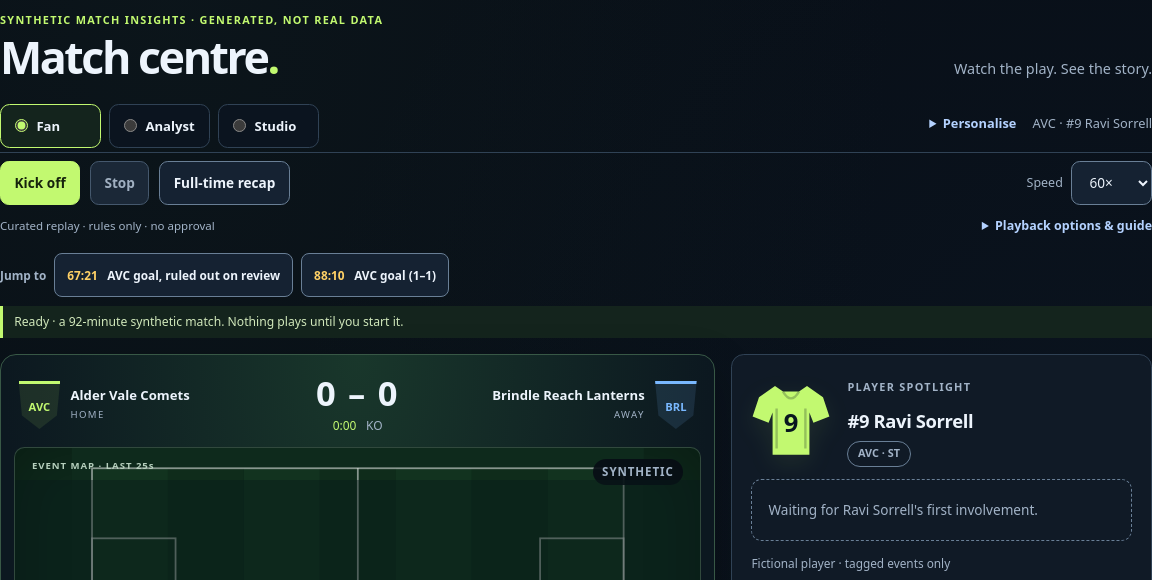
Test case: starting an operator-gated run › shows the server message when the session cannot be created and lets the user try again
expect the element with test id "scorebug" is shown: met, box left=14, top=368, right=702, bottom=447
Click the heading "Personalise AVC · #9 Ravi Sorrell": (1047, 123) left=943, top=114, right=1151, bottom=132
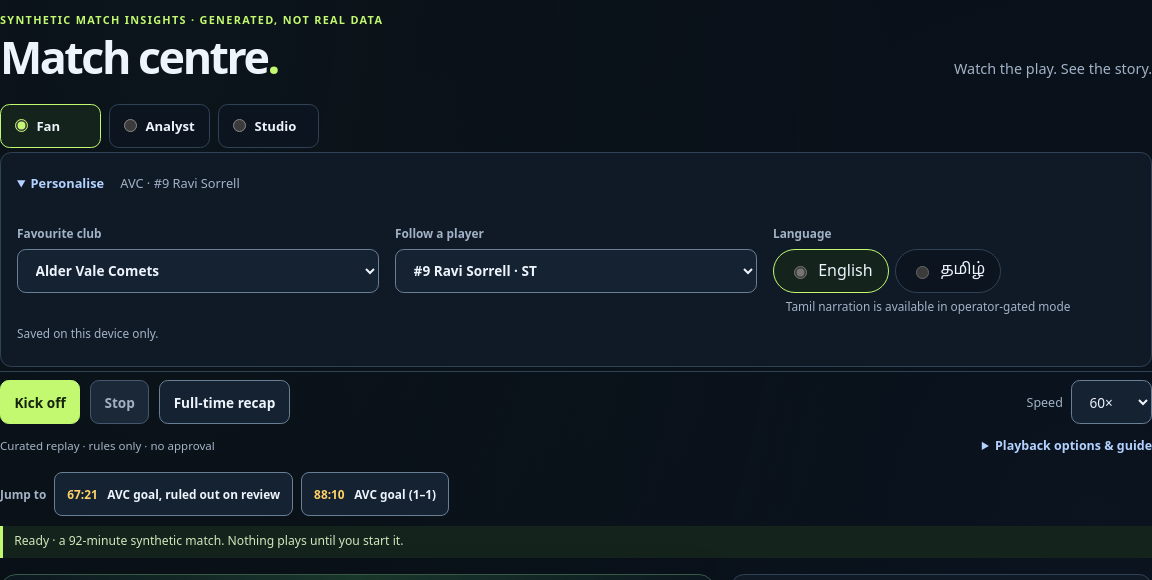
Click the heading "Playback options & guide": (1074, 445) left=995, top=436, right=1151, bottom=454
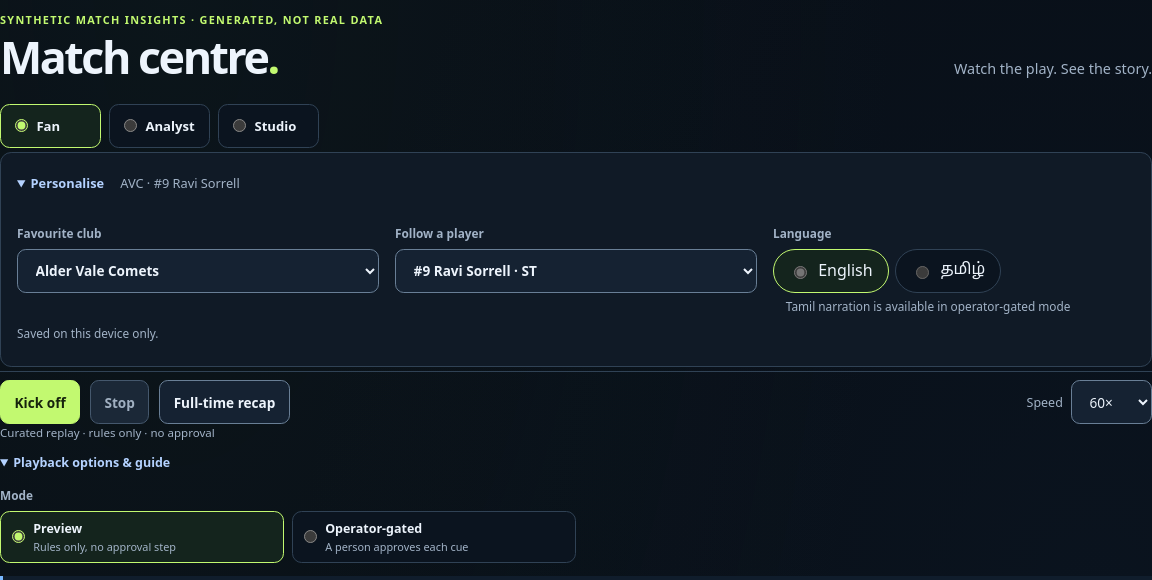
Click the radio button labelled "Operator-gated A person approves each cue": (311, 537) left=304, top=530, right=317, bottom=543
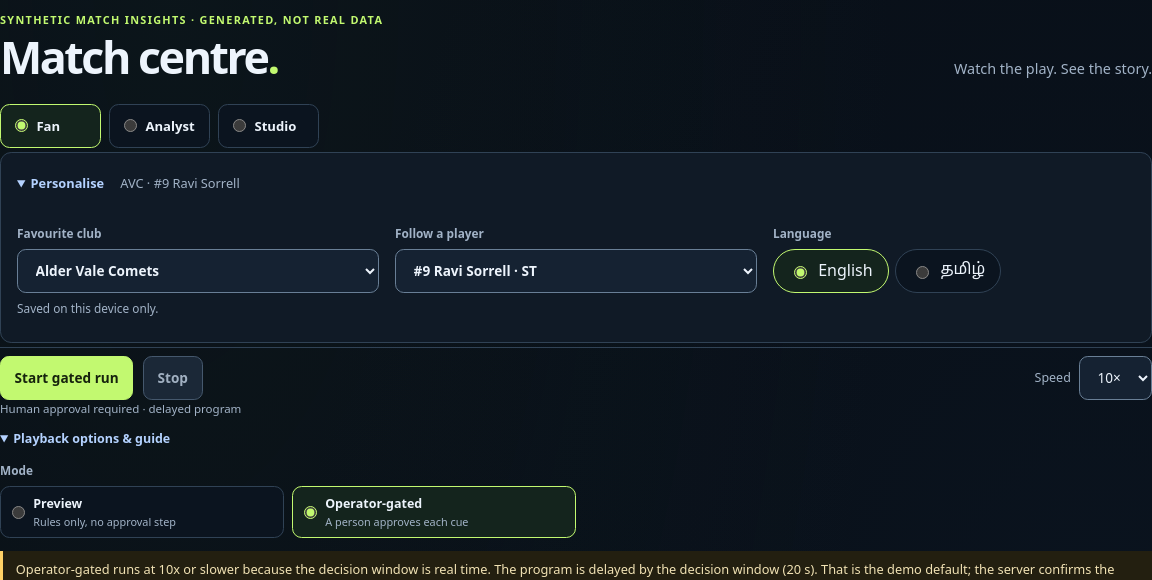
Click the button "Start gated run": (67, 378) left=0, top=356, right=133, bottom=400
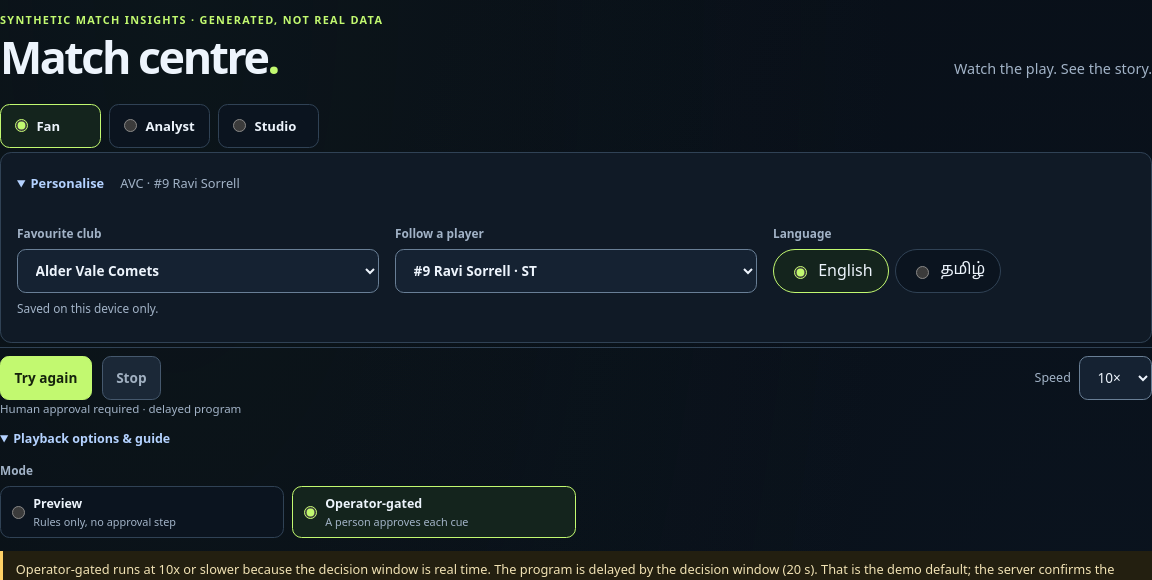
Click the button "Try again": (46, 378) left=0, top=356, right=92, bottom=400
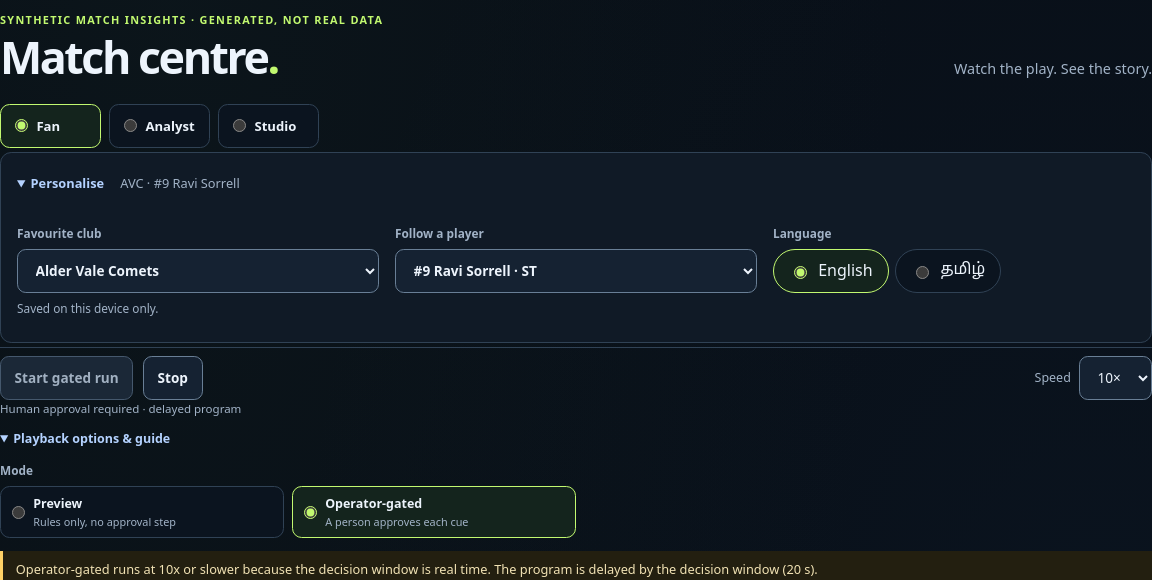
expect the button "Stop" is enabled: met, box left=143, top=356, right=202, bottom=400
